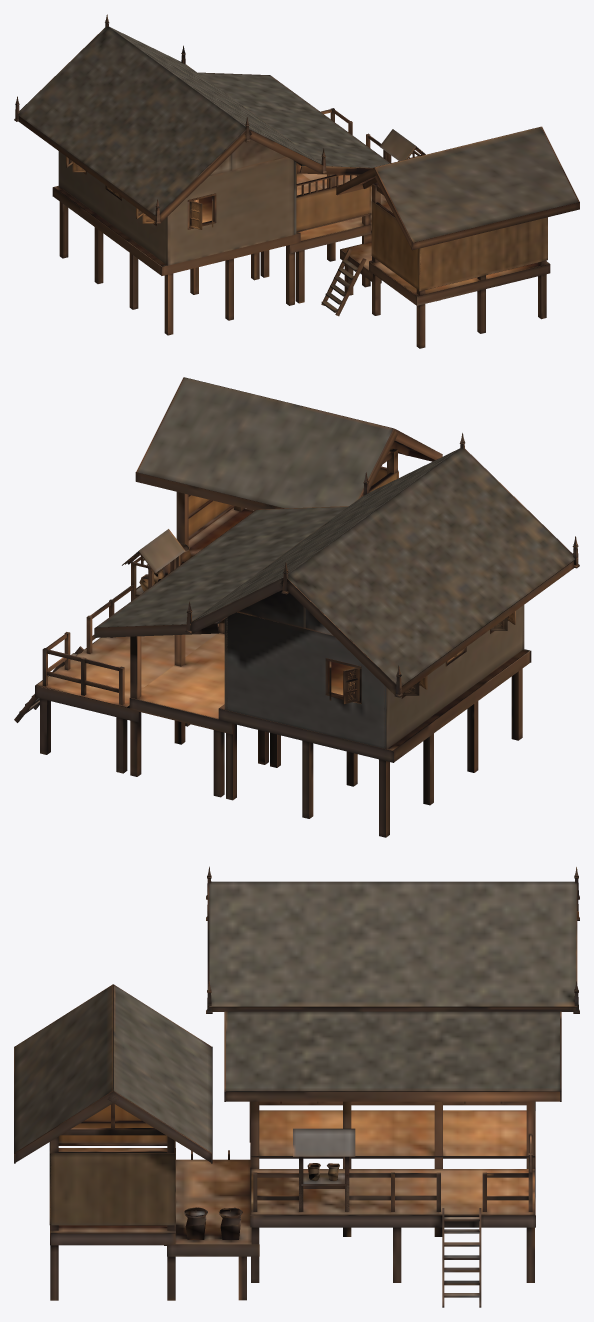
The model's file is isanthaihouse.glb.
3 views of the same model, one above another, from view 1: azimuth 30°, elevation 25°; view 2: azimuth 150°, elevation 25°; view 3: azimuth 270°, elevation 25° (orthographic). The views are drawn at different scales.
Visible parts, largest first — view 1: Object_4; view 2: Object_4; view 3: Object_4.
Boxes of the visible parts, x1=… form: Object_4: x1=14, y1=14, x2=579, y2=348; Object_4: x1=14, y1=377, x2=579, y2=837; Object_4: x1=14, y1=866, x2=579, y2=1307.
Size of the model in its own units: 3.81 by 2.24 by 4.07.
1 material, 1 textured.
